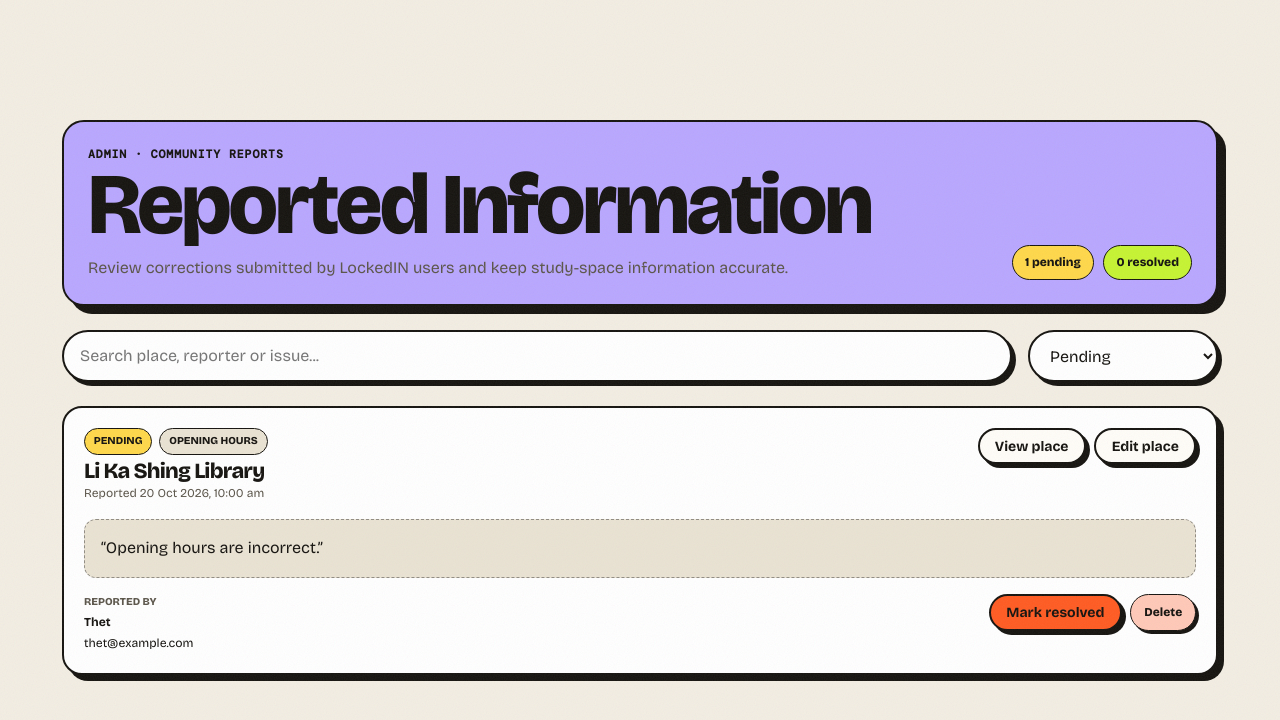
AdminReportsView › marks a pending report as resolved
This screenshot has width=1280, height=720.
Step 1. Click the button "Mark resolved" → (1055, 613), box top-left (989, 594), bottom-right (1122, 631)
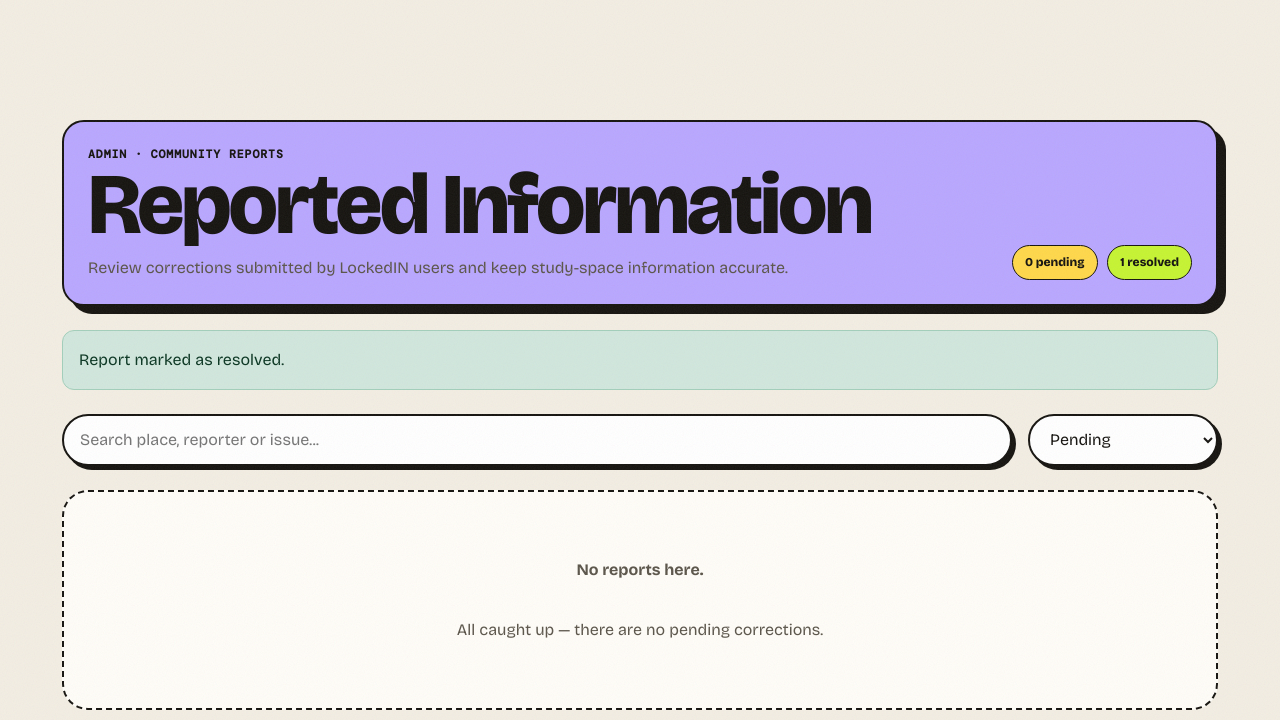
Result: the text "Report marked as resolved." is shown at top-left (62, 330), bottom-right (1218, 390)
